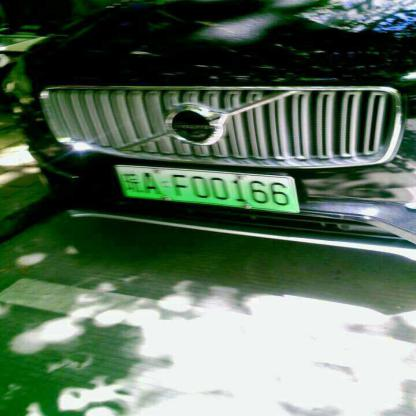lp: (114, 167, 299, 213)
